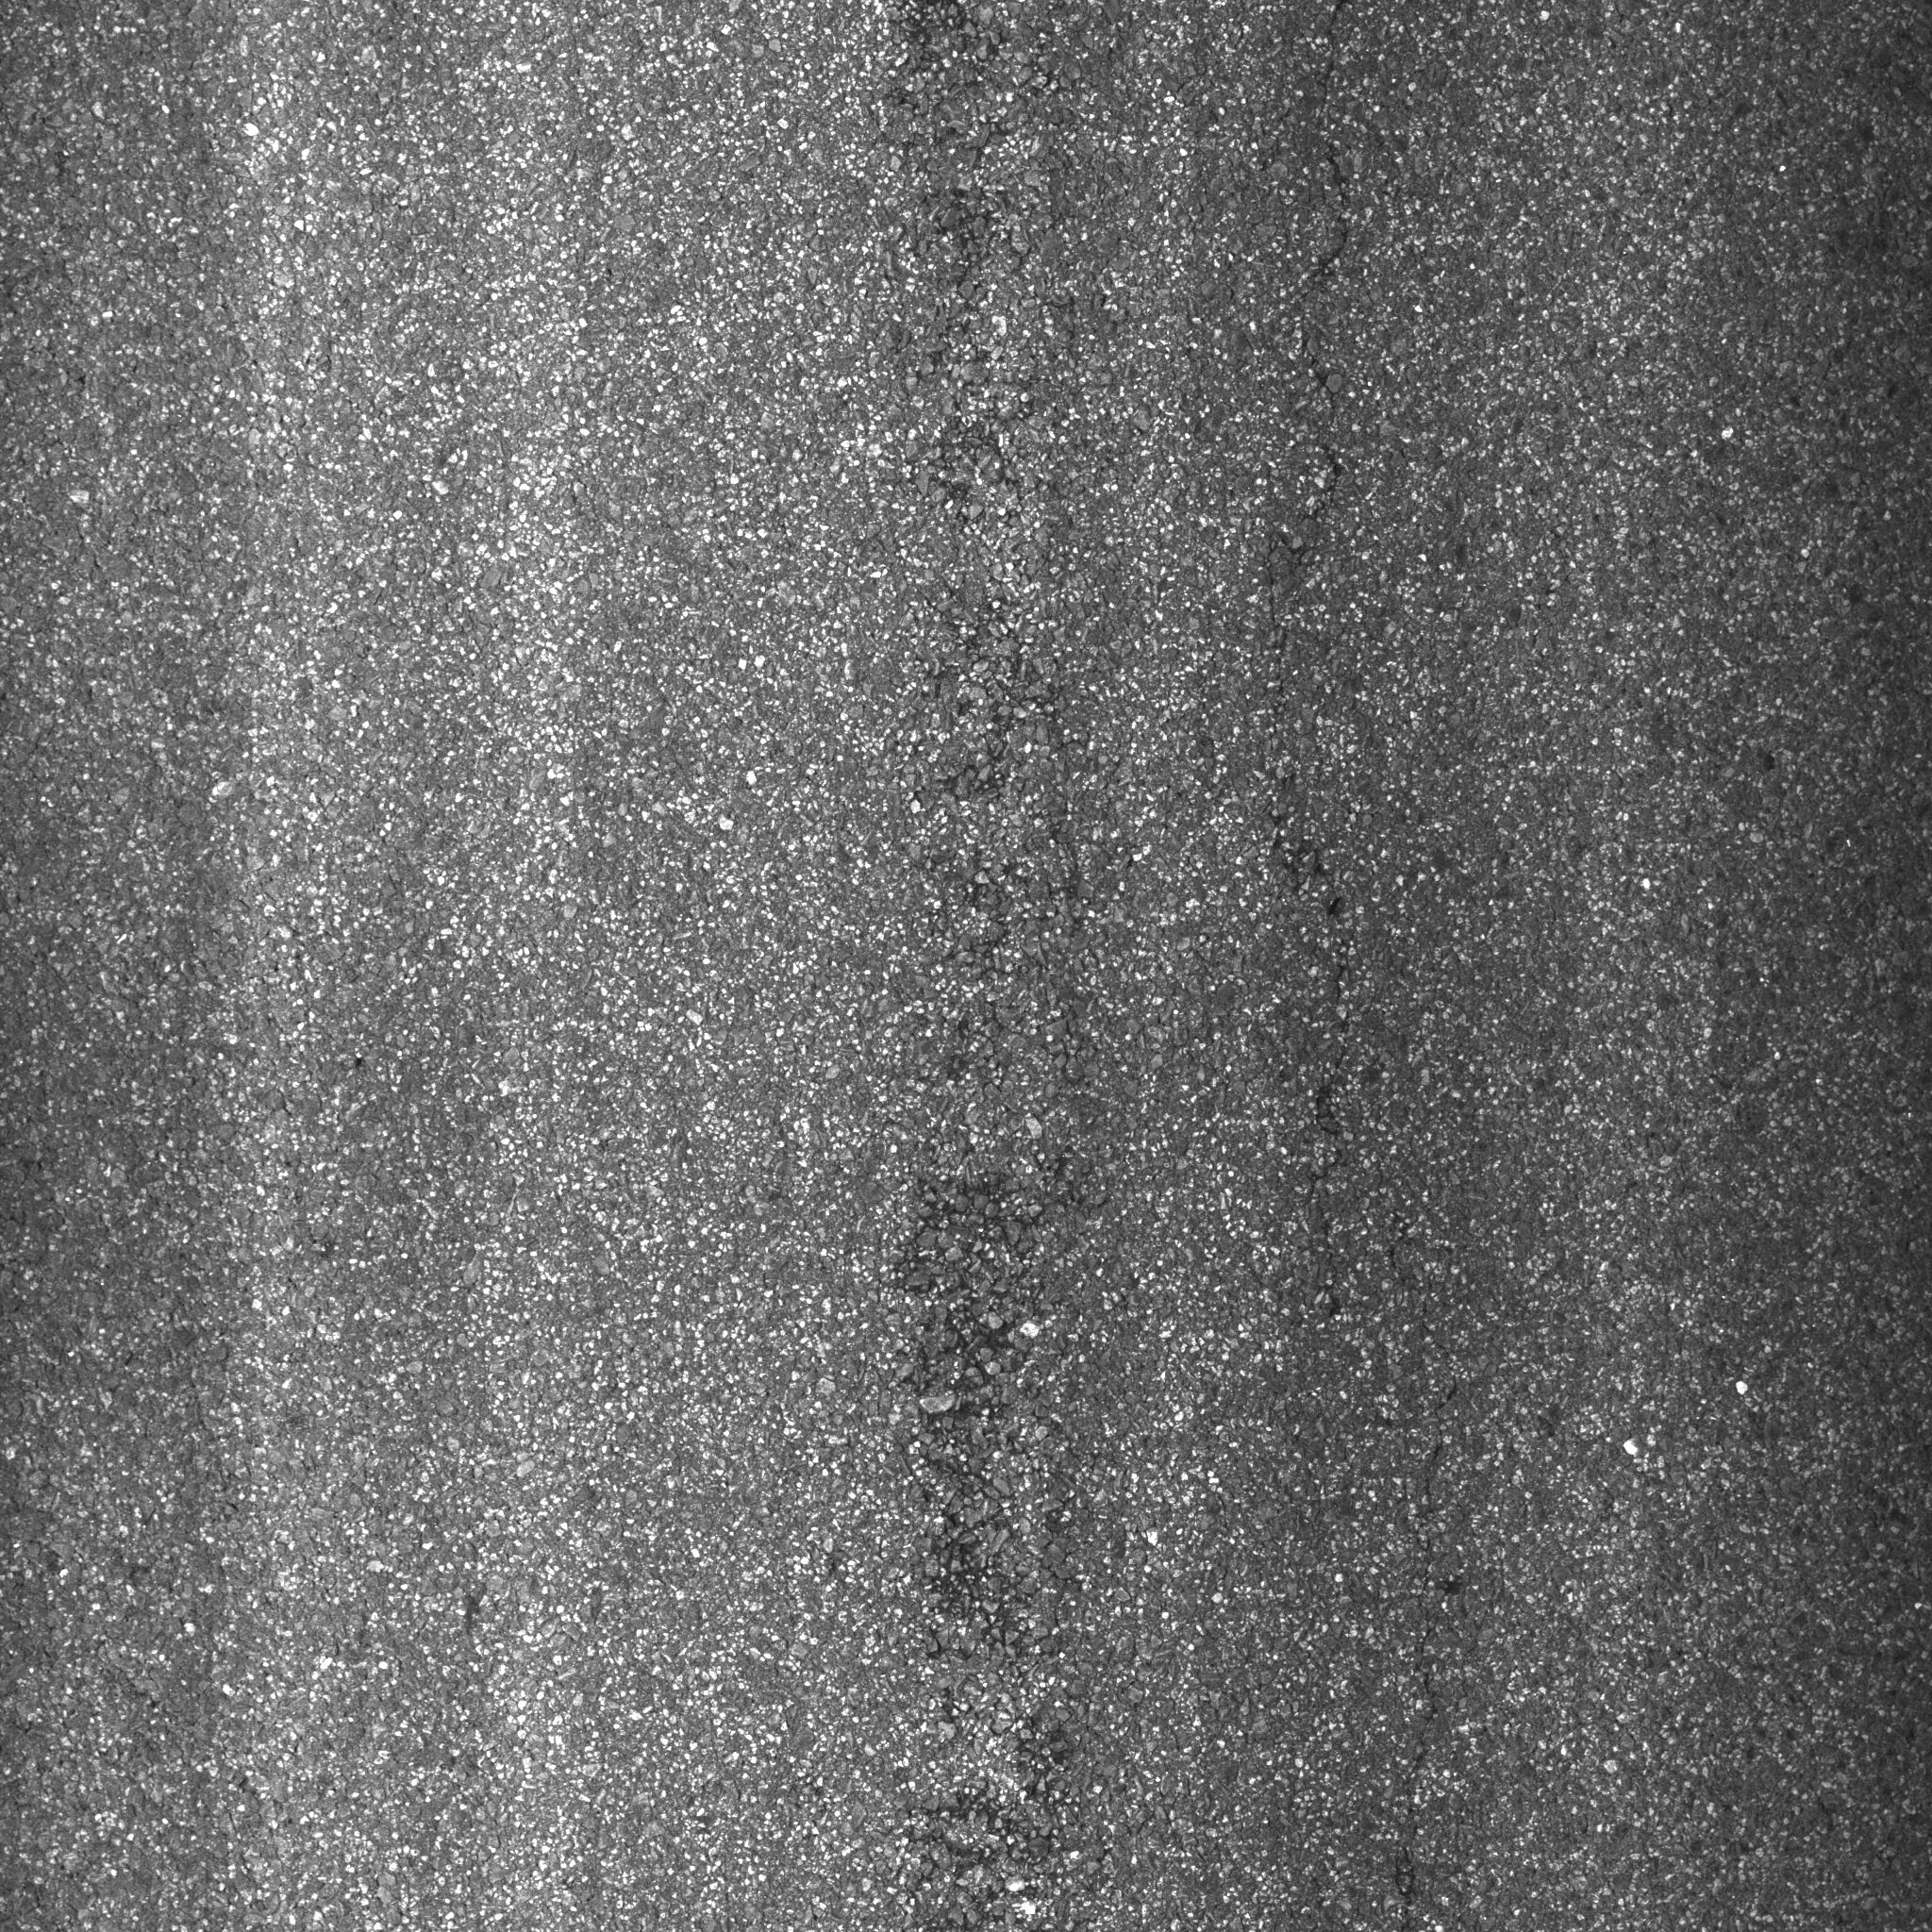longitudinal: (1246, 775, 1426, 1299), (1385, 1362, 1495, 1923)
